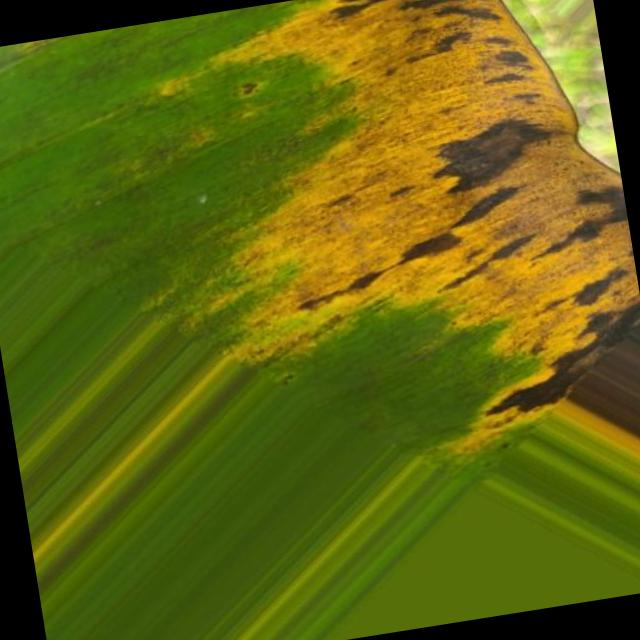Banana_Black_Sigatoka: (239, 0, 640, 463)
